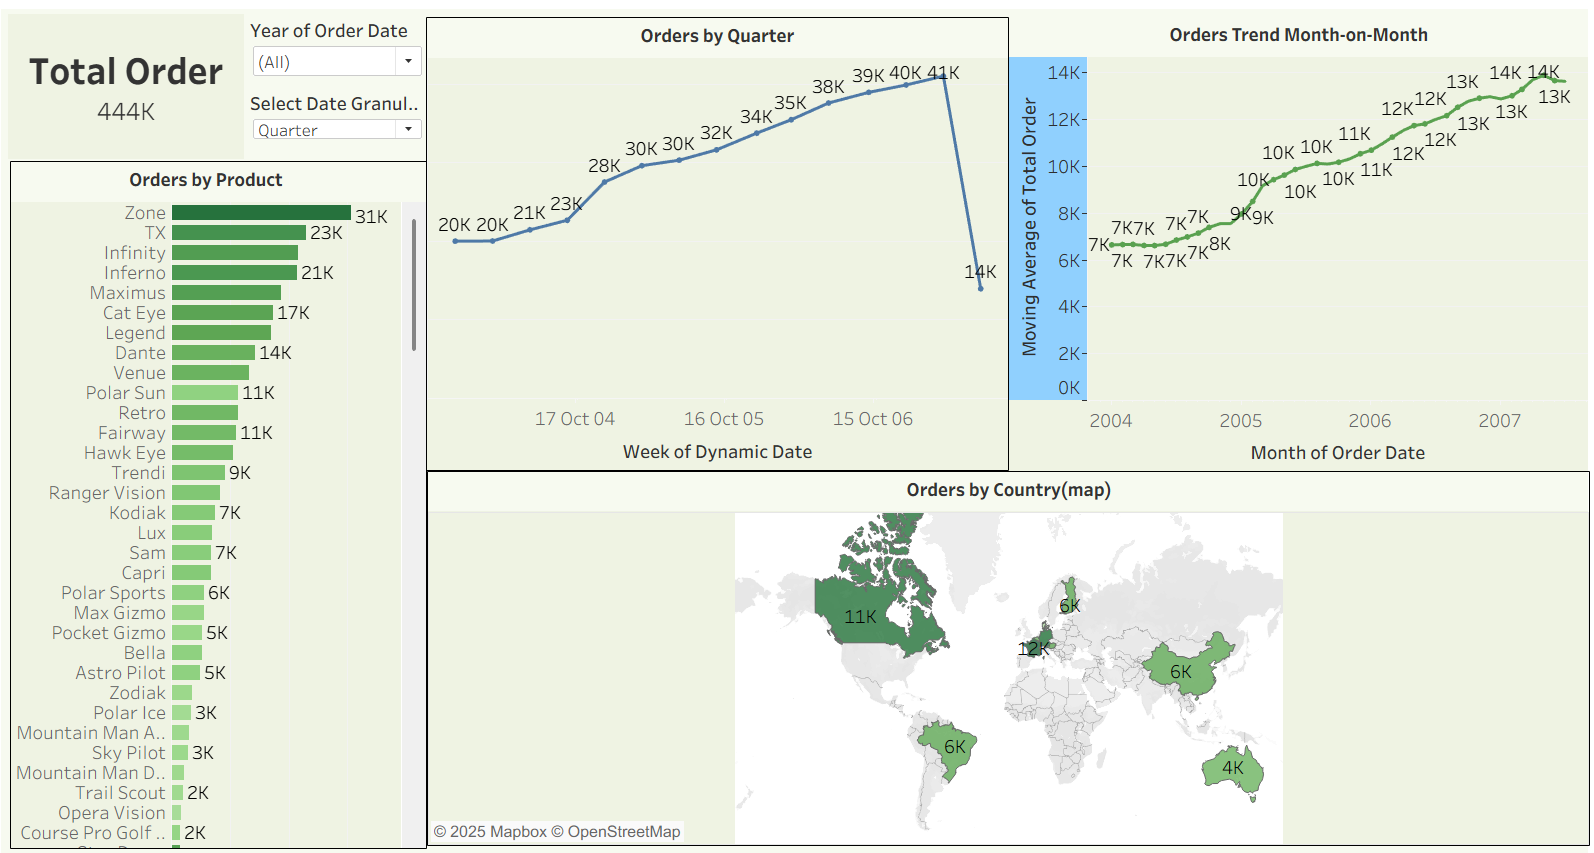

This screenshot's page, from the dashboard's own definition file:
{"tool":"tableau","page":{"name":"Orders Analysis","canvas":[1000,1000],"units":"permille","ordinal":0},"visuals":[{"type":"worksheet","title":"Total Order","mark":"Text","box":[10.9,16.2,147.1,167.4]},{"type":"filter","title":"Orders Trend Month-on-Month","param":"[federated.1ao1ng51ba1a7a0zy91v90xm88kz].[yr:ORDER_DATE:ok]","box":[161.4,19.6,109,71.6]},{"type":"worksheet","title":"Orders by Quarter","mark":"Automatic","rows":["Calculation_554224234908151816"],"cols":["Calculation_554224234991185931"],"box":[271.1,19.6,363.8,524.2]},{"type":"worksheet","title":"Orders Trend Month-on-Month","mark":"Automatic","rows":["Calculation_554224234908151816"],"cols":["ORDER_DATE"],"box":[634.9,19.6,361.7,524.2]},{"type":"parameter","param":"[Parameters].[Profit Margin %  Parameter]","box":[161.4,103.9,109,60.1]},{"type":"worksheet","title":"Orders by Product","mark":"Automatic","rows":["PRODUCT_NAME (TBL_DIM_PRODUCT_NAME_LKP.csv)"],"cols":["Calculation_554224234908151816"],"box":[11.6,185.9,260.2,794.5]},{"type":"worksheet","title":"Orders by Country(map)","mark":"Automatic","box":[271.8,543.9,725.5,433]}]}

Visuals, with their boxes on the dashboard's canvas, which has no fixed pixel size, in thousandths of its width and height (x1, y1, x2, y2). These are canvas units, not pixel positions in the 1594x853 screenshot, which may show the page scaled, cropped or inside an application window:
"Total Order" worksheet (Text marks): crop(11, 16, 158, 184)
"Orders Trend Month-on-Month" filter: crop(161, 20, 270, 91)
"Orders by Quarter" worksheet: crop(271, 20, 635, 544)
"Orders Trend Month-on-Month" worksheet: crop(635, 20, 997, 544)
parameter: crop(161, 104, 270, 164)
"Orders by Product" worksheet: crop(12, 186, 272, 980)
"Orders by Country(map)" worksheet: crop(272, 544, 997, 977)
